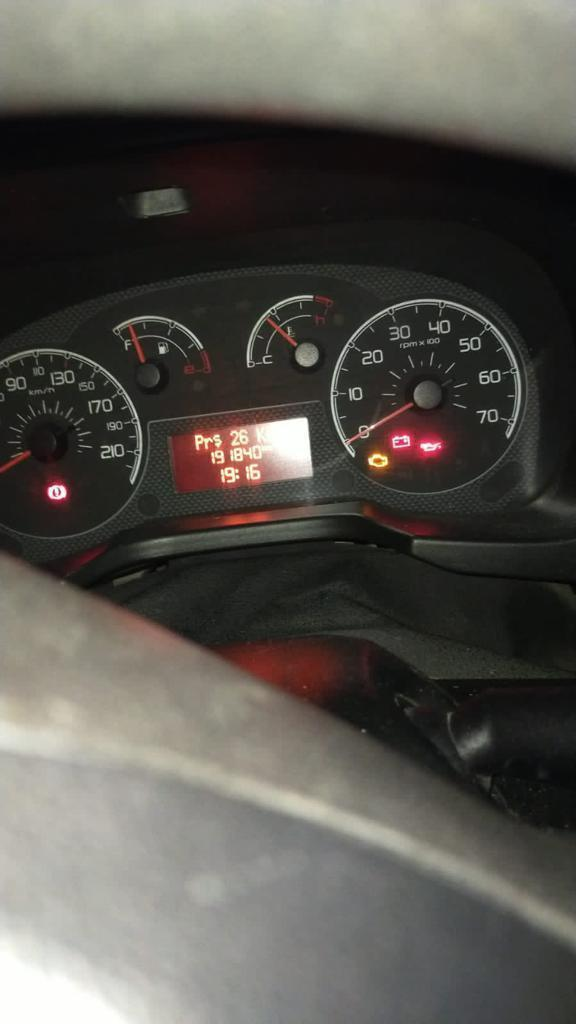0: (251, 444, 262, 459)
1: (244, 465, 250, 480), (220, 468, 225, 483), (210, 451, 215, 464), (229, 449, 233, 461)
2: (229, 430, 239, 446)
4: (242, 446, 252, 459)
6: (249, 463, 260, 480), (238, 428, 248, 444)
8: (233, 447, 242, 461)
9: (224, 466, 235, 483), (214, 449, 224, 464)
X: (255, 426, 266, 443), (194, 434, 203, 451), (212, 434, 222, 447), (203, 436, 213, 449), (234, 468, 239, 479)
odometer: (166, 416, 315, 496)
